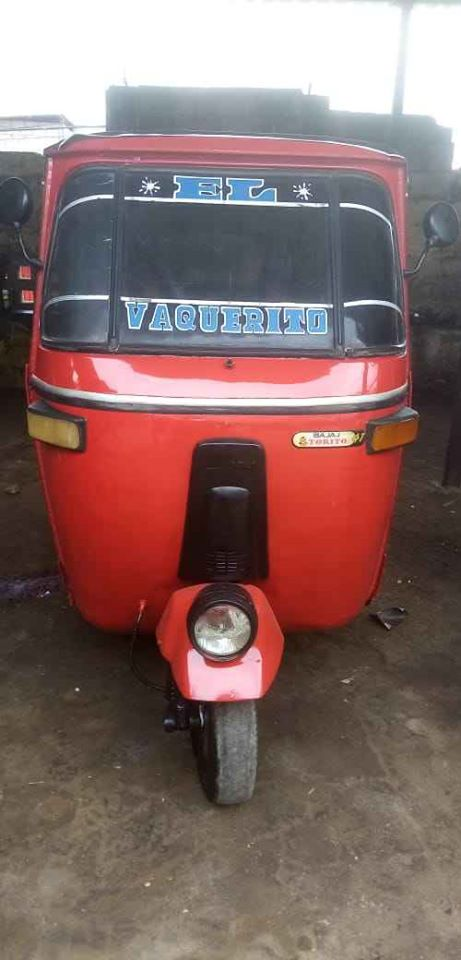mototaxi: (33, 121, 427, 824)
